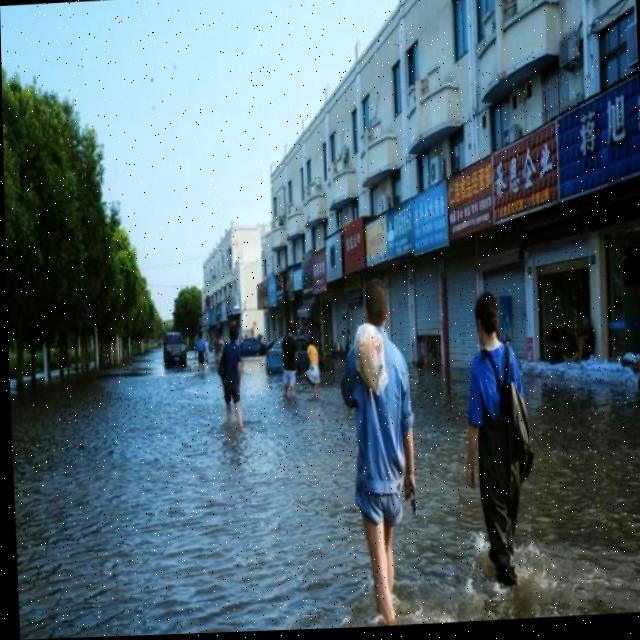civilian: (327, 257, 427, 628), (448, 273, 538, 608), (210, 315, 259, 450), (561, 303, 598, 370), (274, 325, 306, 402), (299, 331, 328, 410), (188, 321, 213, 383)
